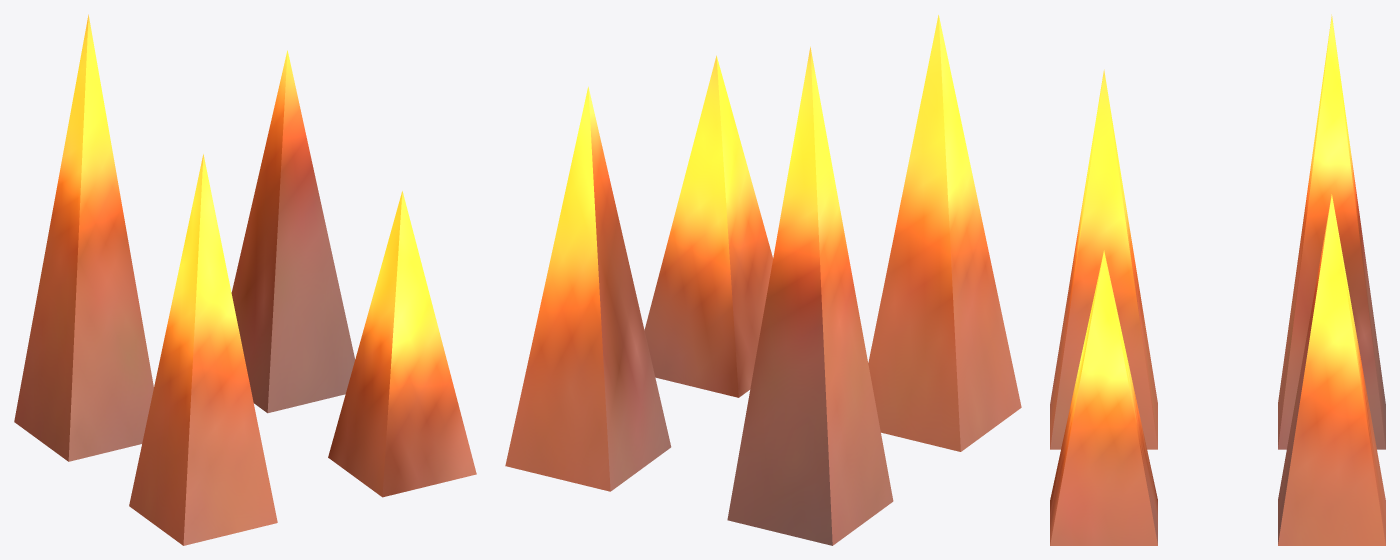
Rendered from kill.glb.
3 views of the same model, side by side, from view 1: azimuth 30°, elevation 25°; view 2: azimuth 150°, elevation 25°; view 3: azimuth 270°, elevation 25° (orthographic). The views are drawn at different scales.
Parts seen in each view (by area): view 1: kill; view 2: kill; view 3: kill.
Part boxes in pixels (x1,y1,x2,y2): kill: [14, 14, 476, 545]; kill: [505, 15, 1021, 545]; kill: [1050, 14, 1385, 545].
Bounding box in the file's own units: 1.47 × 2 × 1.47.
Materials: 1 (1 with a texture image).
